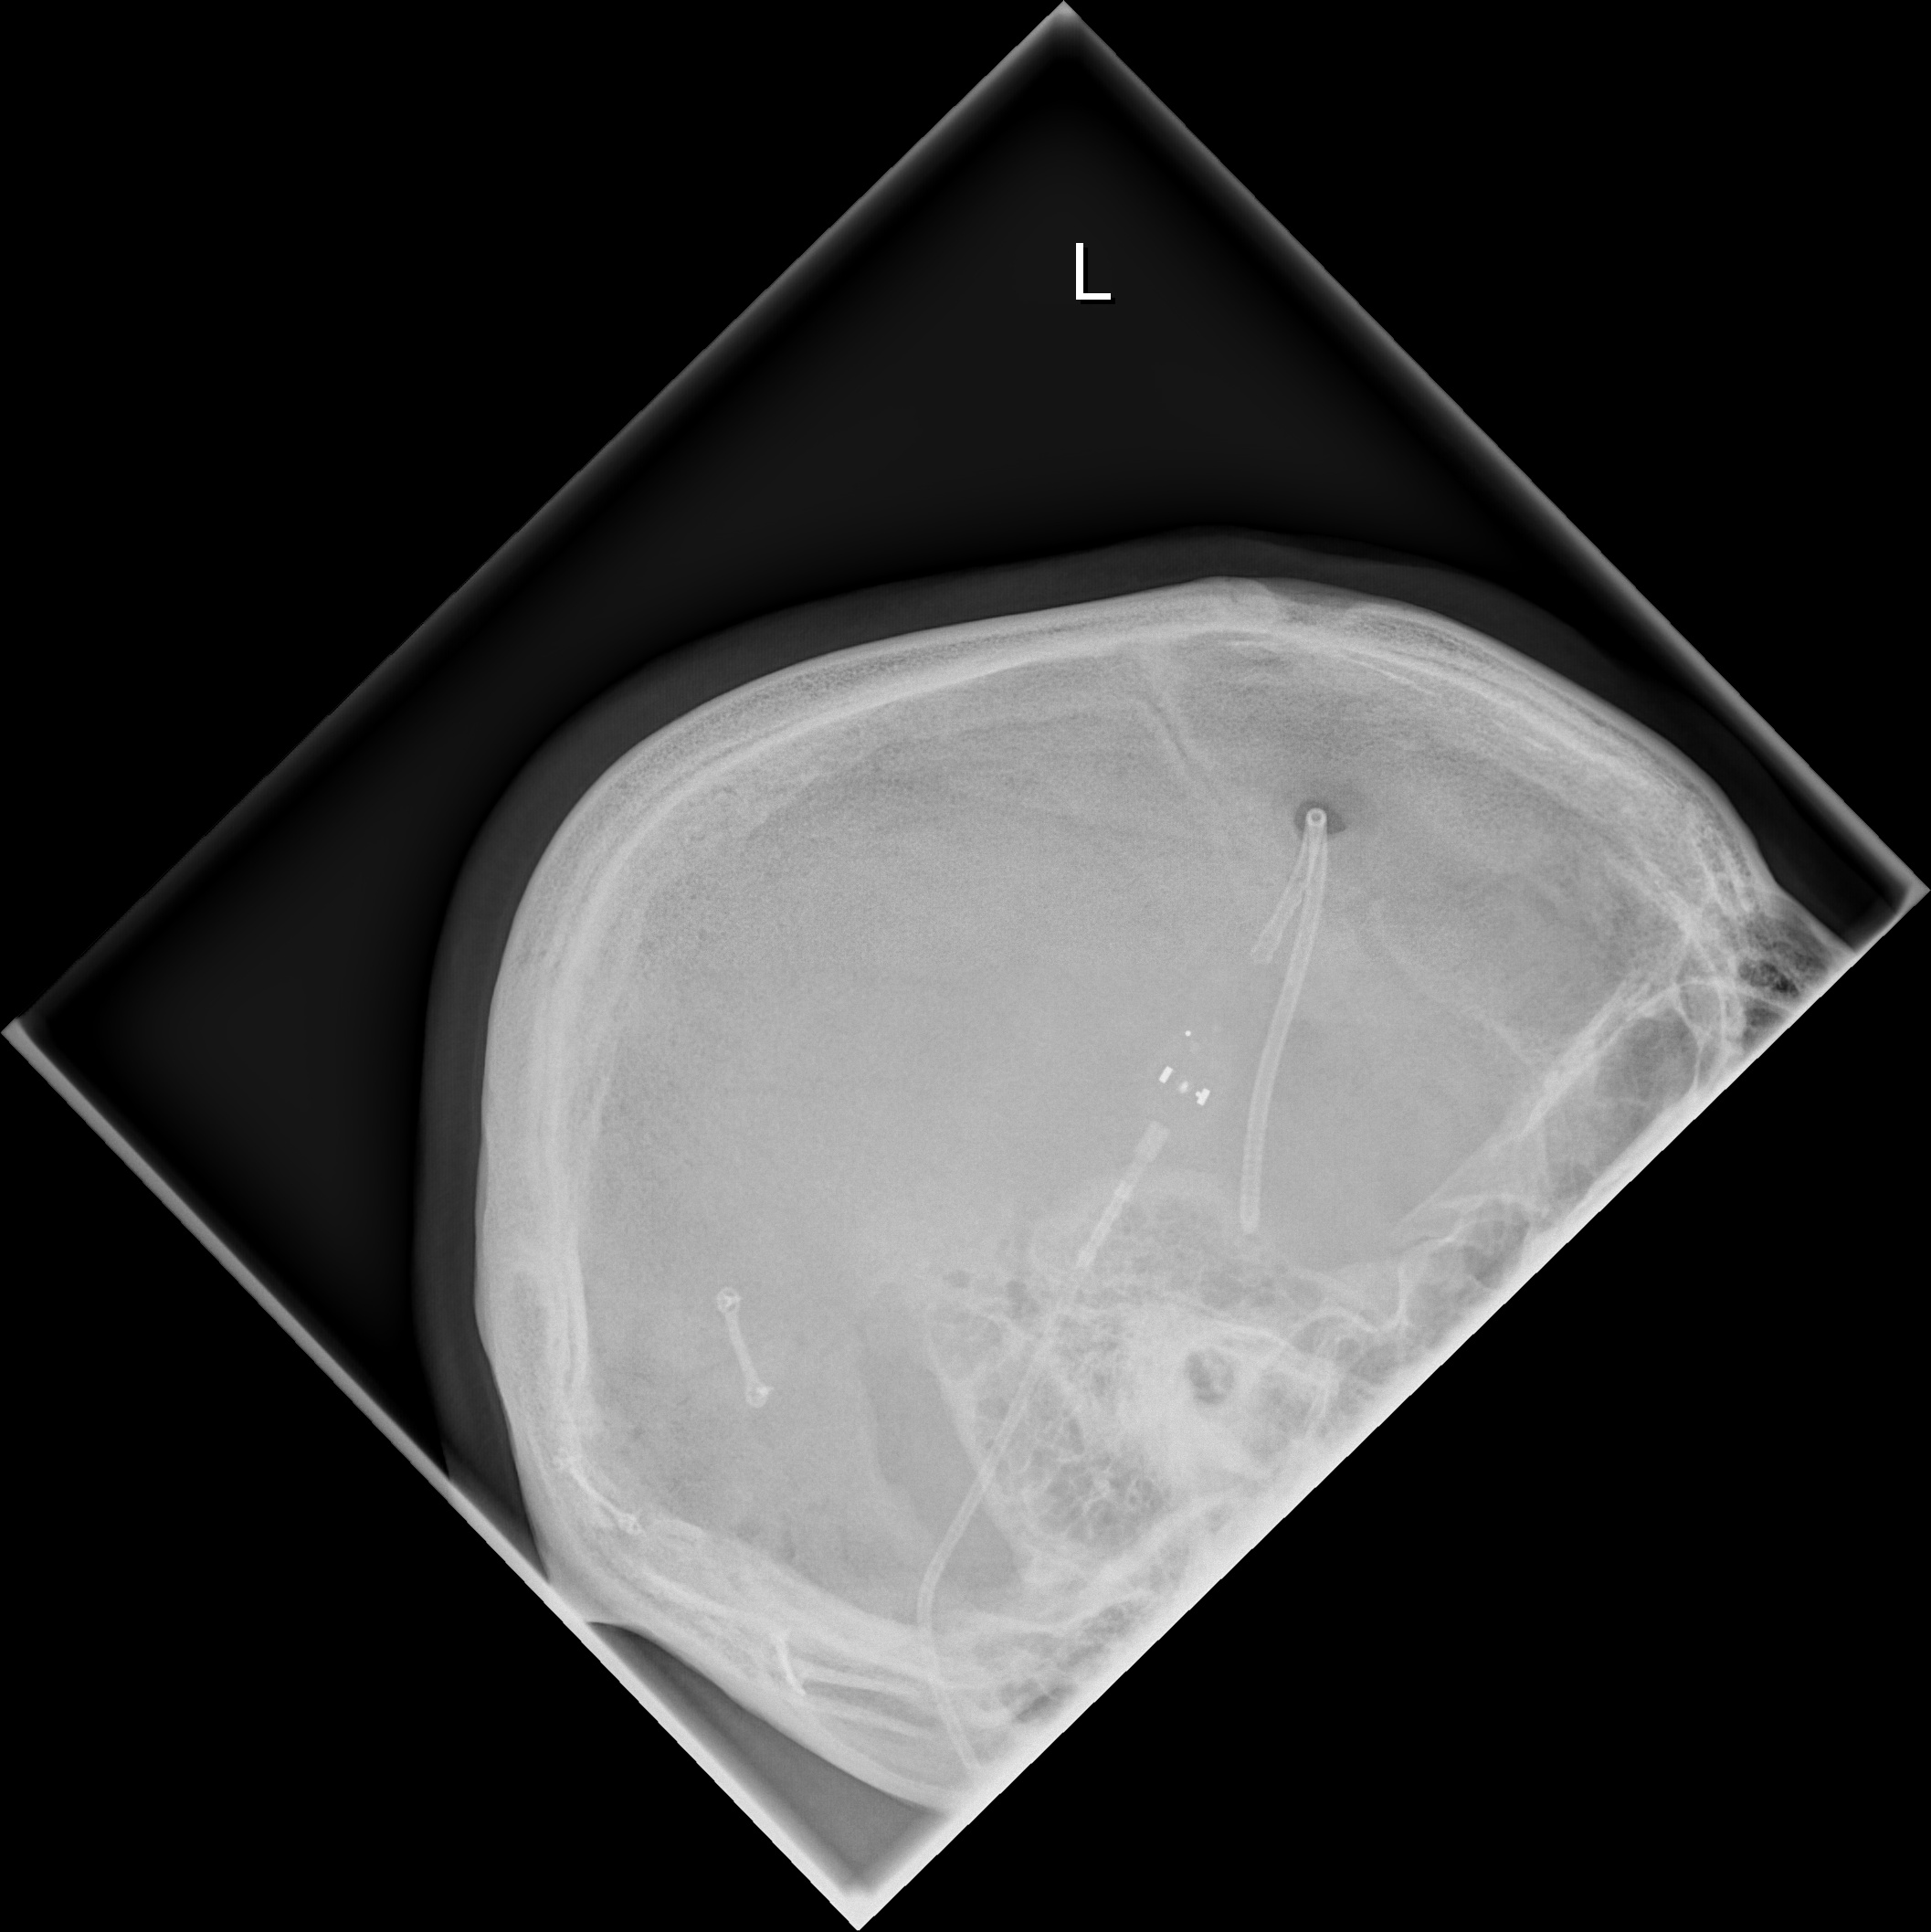Codman Certas: (1128, 1011, 1241, 1140)
